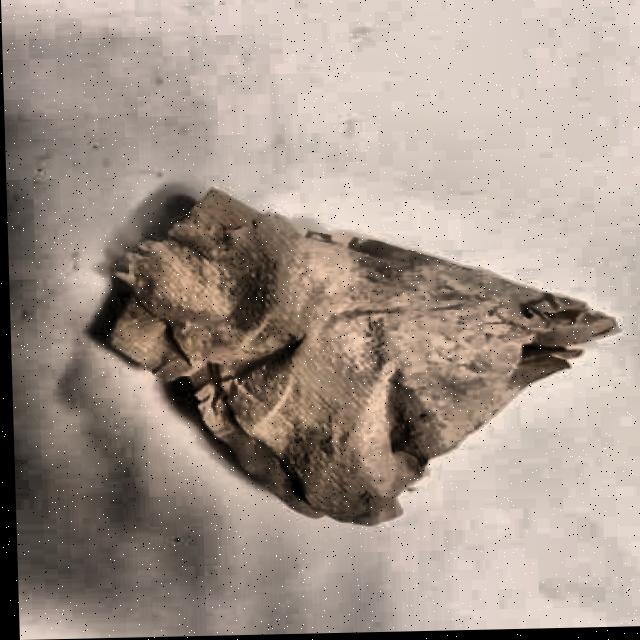paper: (61, 164, 632, 544)
